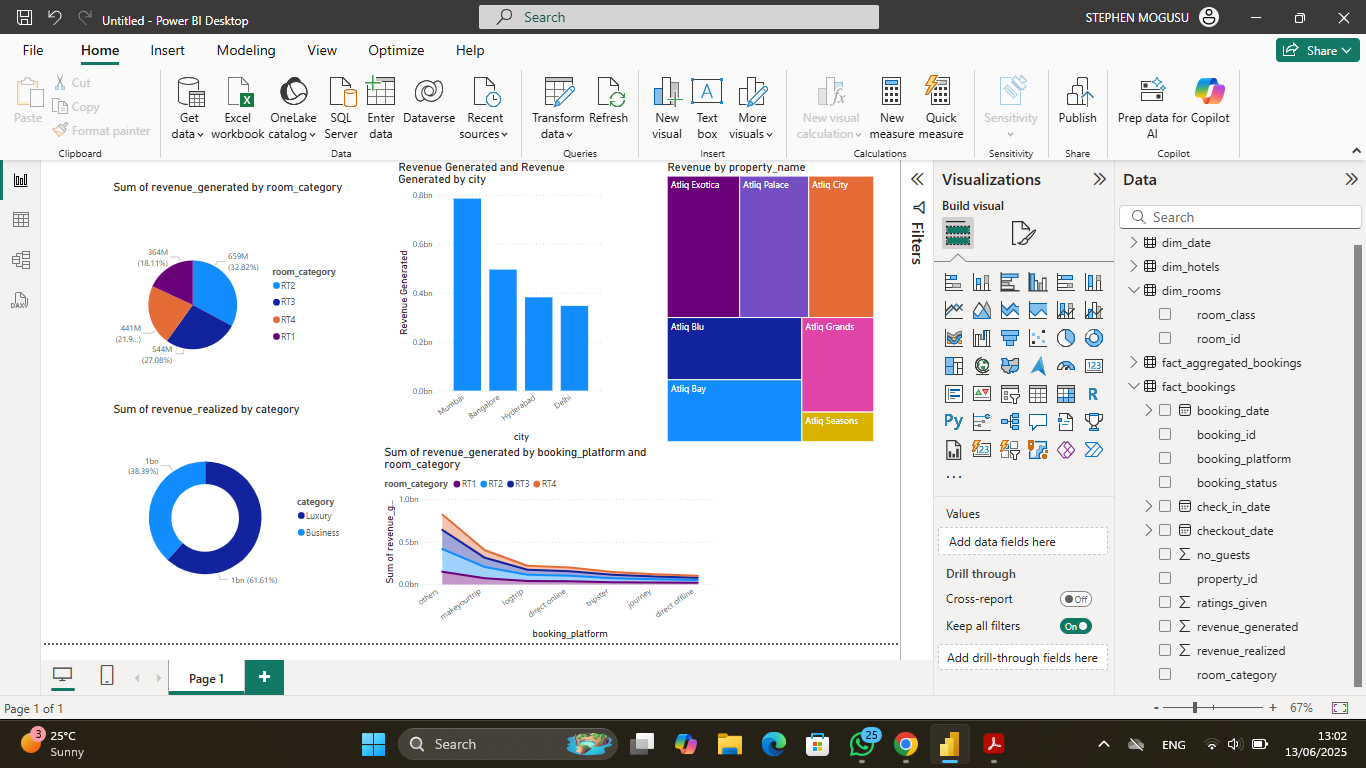

The dashboard page shown, as its layout file describes it:
{"tool":"powerbi","page":{"name":"Page 1","canvas":[1280,720],"ordinal":0},"visuals":[{"type":"pieChart","fields":{"Y":["Sum(fact_bookings.revenue_generated)"],"Category":["fact_bookings.room_category"]},"box":[102.8,29.8,357.6,353.2],"z":0},{"type":"lineStackedColumnComboChart","fields":{"Category":["dim_hotels.city"],"Y":["Sum(fact_bookings.revenue_generated)","Sum(fact_bookings.revenue_generated)"]},"box":[506.3,0,316.1,424.4],"z":1000},{"type":"treemap","fields":{"Group":["dim_hotels.property_name"],"Values":["Sum(fact_bookings.revenue_generated)"]},"box":[859,0,317.6,424.4],"z":2000},{"type":"donutChart","fields":{"Y":["Sum(fact_bookings.revenue_realized)"],"Category":["dim_hotels.category"]},"box":[42.4,360,358.5,326.3],"z":3000},{"type":"stackedAreaChart","fields":{"Category":["fact_bookings.booking_platform"],"Y":["Sum(fact_bookings.revenue_generated)"],"Series":["fact_bookings.room_category"]},"box":[459.5,424.4,502,295.6],"z":3001},{"type":"tableEx","fields":{"Values":["dim_hotels.property_name","Sum(fact_bookings.revenue_generated)","dim_hotels.property_id","fact_bookings.property_id"]},"box":[961.5,424.4,281,295.6],"z":3002}]}

Visuals, with their boxes on the page's 1280x720 design canvas (x1, y1, x2, y2). These are canvas units, not pixel positions in the 1366x768 screenshot, which may show the page scaled, cropped or inside an application window:
pieChart - Sum(fact_bookings.revenue_generated) x fact_bookings.room_category: pyautogui.locateOnScreen(103, 30, 460, 383)
lineStackedColumnComboChart - dim_hotels.city x Sum(fact_bookings.revenue_generated): pyautogui.locateOnScreen(506, 0, 822, 424)
treemap - dim_hotels.property_name x Sum(fact_bookings.revenue_generated): pyautogui.locateOnScreen(859, 0, 1177, 424)
donutChart - Sum(fact_bookings.revenue_realized) x dim_hotels.category: pyautogui.locateOnScreen(42, 360, 401, 686)
stackedAreaChart - fact_bookings.booking_platform x Sum(fact_bookings.revenue_generated): pyautogui.locateOnScreen(460, 424, 962, 720)
tableEx - dim_hotels.property_name x Sum(fact_bookings.revenue_generated): pyautogui.locateOnScreen(962, 424, 1242, 720)
